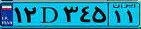character: (38, 4, 60, 27), (59, 4, 79, 25), (22, 4, 38, 26), (92, 4, 107, 27), (79, 4, 92, 25), (13, 4, 23, 25), (125, 8, 134, 25), (112, 9, 122, 24)
